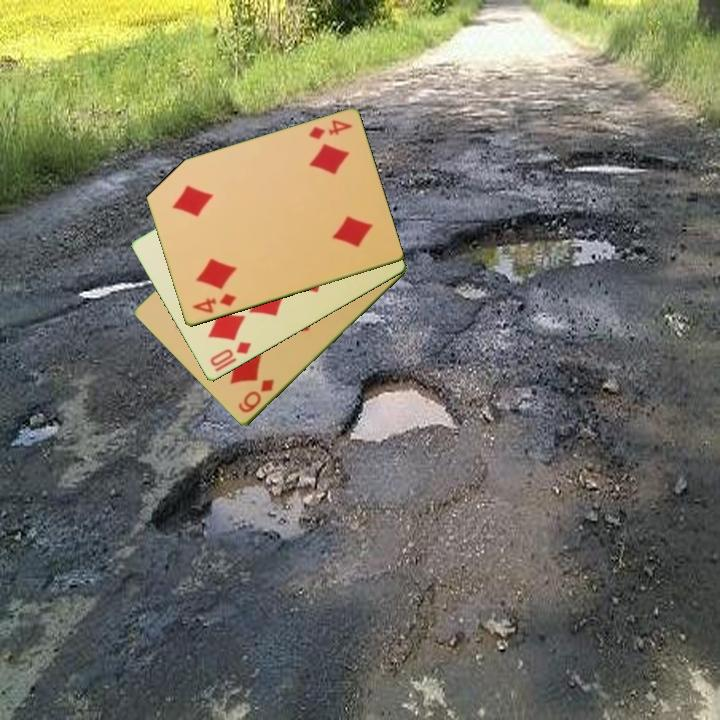10d: (206, 338, 254, 370)
4d: (305, 116, 355, 143), (188, 290, 239, 316)
6d: (235, 375, 277, 416)
